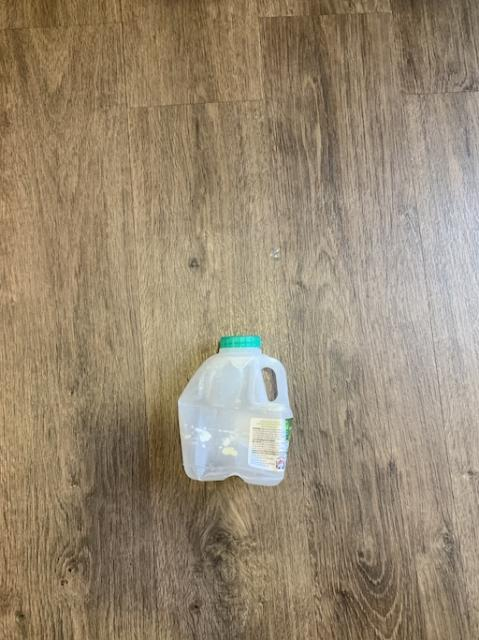plastic: (178, 335, 291, 484)
